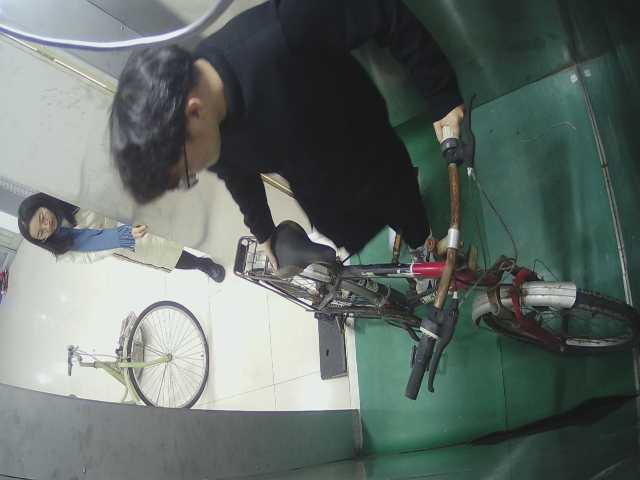bicycle: (231, 182, 624, 404), (54, 301, 224, 418)
person: (111, 1, 459, 271), (8, 183, 233, 282)
